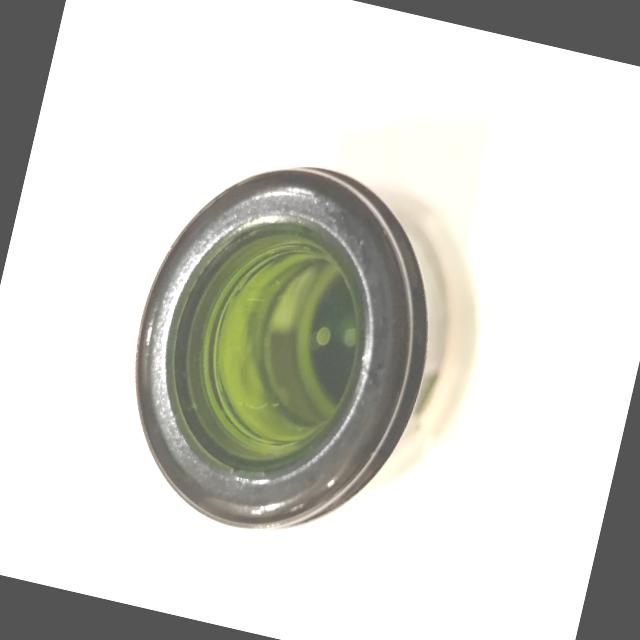Glass: (80, 110, 512, 592)
